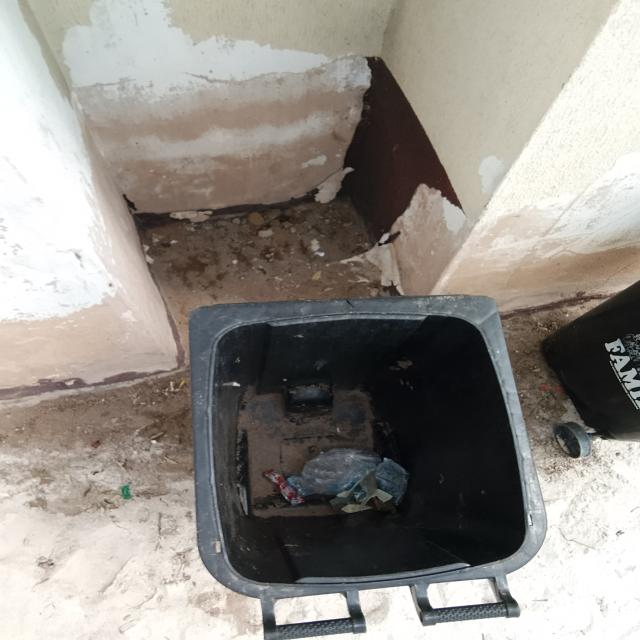empty: (178, 299, 544, 599)
